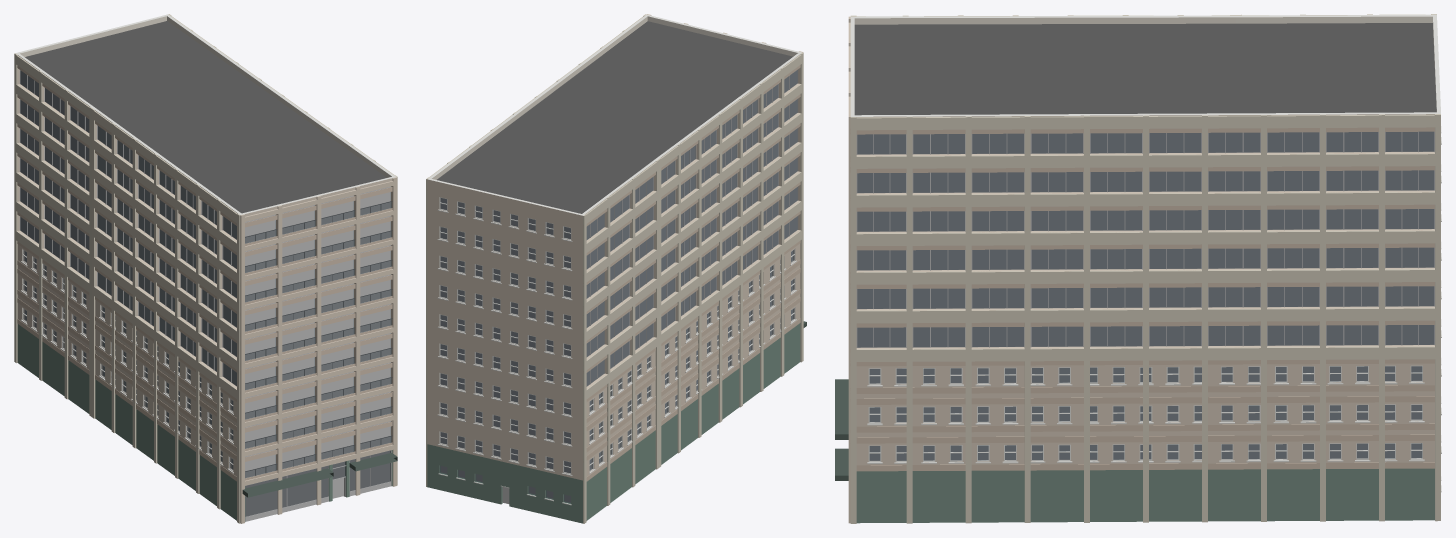
The model's file is exterior.glb.
The picture shows the model from 3 angles, left to right: view 1: azimuth 30°, elevation 25°; view 2: azimuth 150°, elevation 25°; view 3: azimuth 270°, elevation 25°; orthographic projection. The views are drawn at different scales.
Parts seen in each view (by area): view 1: shadow-proxy, roof, shell, glazing, relief-2, relief-3, relief-4, frames, storefront, awning-box-2.001, trim, relief-1 (+1 smaller); view 2: shell, roof, relief-3, glazing, shadow-proxy, relief-4, frames, trim, relief-1; view 3: relief-1, glazing, shell, shadow-proxy, roof, frames, trim, relief-2, awning-box-2.001.
Boxes of the visible parts, x1,y1,x2,y2 form: shadow-proxy: (20,71,389,516); roof: (25,21,386,213); shell: (15,14,396,521); glazing: (20,70,391,516); relief-2: (240,177,397,523); relief-3: (91,108,240,523); relief-4: (14,53,92,416); frames: (19,70,233,471); storefront: (245,186,392,521); awning-box-2.001: (242,468,333,497); trim: (20,261,233,473); relief-1: (168,14,397,484); shell: (427,14,801,523); roof: (437,21,792,213); relief-3: (658,52,803,467); glazing: (440,70,797,503); shadow-proxy: (441,70,797,503); relief-4: (583,160,659,523); frames: (439,69,798,474); trim: (437,209,796,505); relief-1: (426,14,646,486); relief-1: (850,114,1440,523); glazing: (857,131,1434,460); shell: (850,14,1440,523); shadow-proxy: (857,132,1433,460); roof: (854,23,1436,115); frames: (856,131,1434,462); trim: (867,126,1441,492); relief-2: (848,16,850,523); awning-box-2.001: (835,379,848,439).
Bounding box in the file's own units: 20.46 × 37.36 × 50.58.
